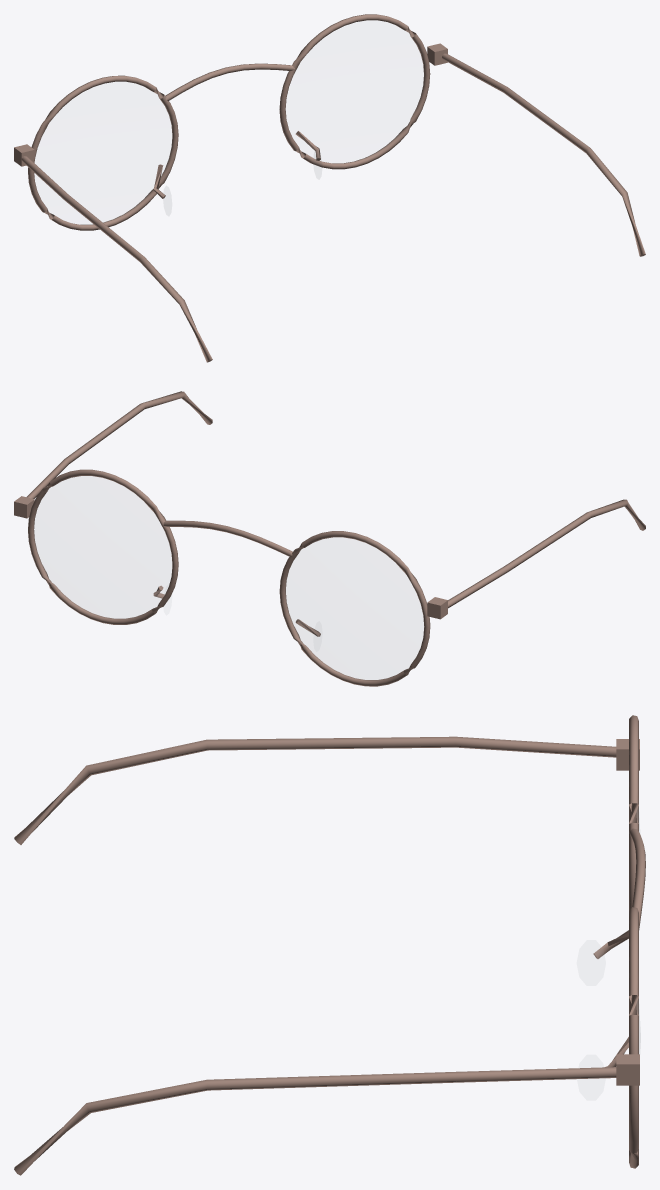
The model's file is glasses_zhiruo.glb.
3 renders of one model, top to bottom at view 1: azimuth 30°, elevation 25°; view 2: azimuth 150°, elevation 25°; view 3: azimuth 270°, elevation 25°, orthographic. The views are drawn at different scales.
Visible parts, largest first — view 1: glasses_frame; view 2: glasses_frame; view 3: glasses_frame.
Part boxes in pixels (x1,y1,x2,y2): glasses_frame: [14, 14, 645, 362]; glasses_frame: [14, 391, 645, 686]; glasses_frame: [14, 715, 645, 1175].
Bounding box in the file's own units: 0.1376 × 0.0439 × 0.1067.
